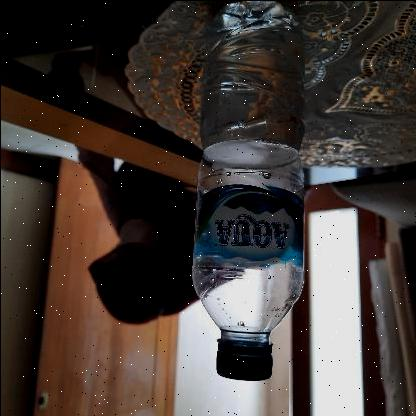Plastic Bottle: (188, 0, 308, 384)
